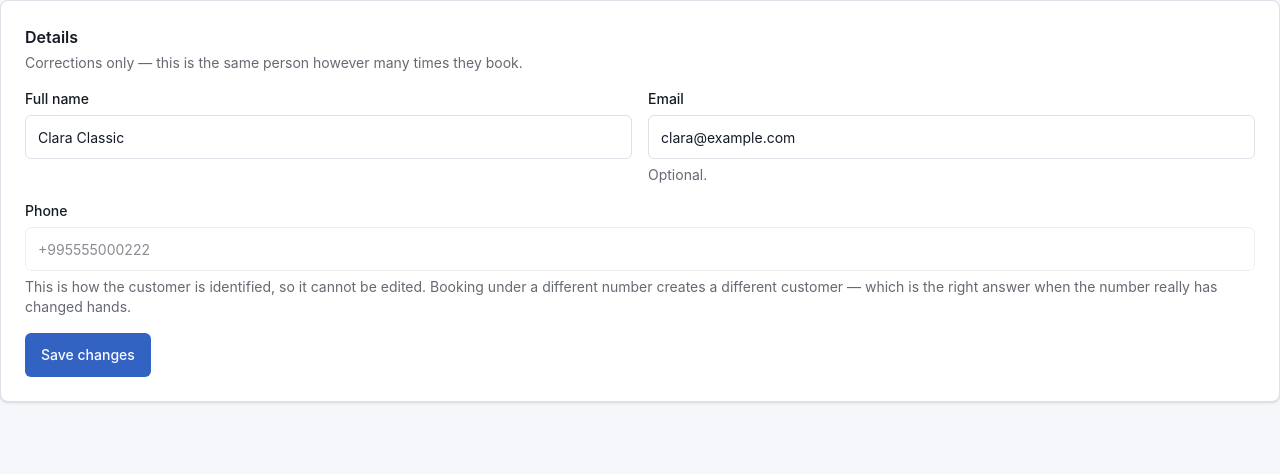
Test: CustomerForm, refused › banners a message for a field this form refuses to draw
The width and height of the screenshot is (1280, 474).
Replace the text in the field labelled "Full name" with "Clara Classical" at (328, 137), box [25, 115, 632, 159]
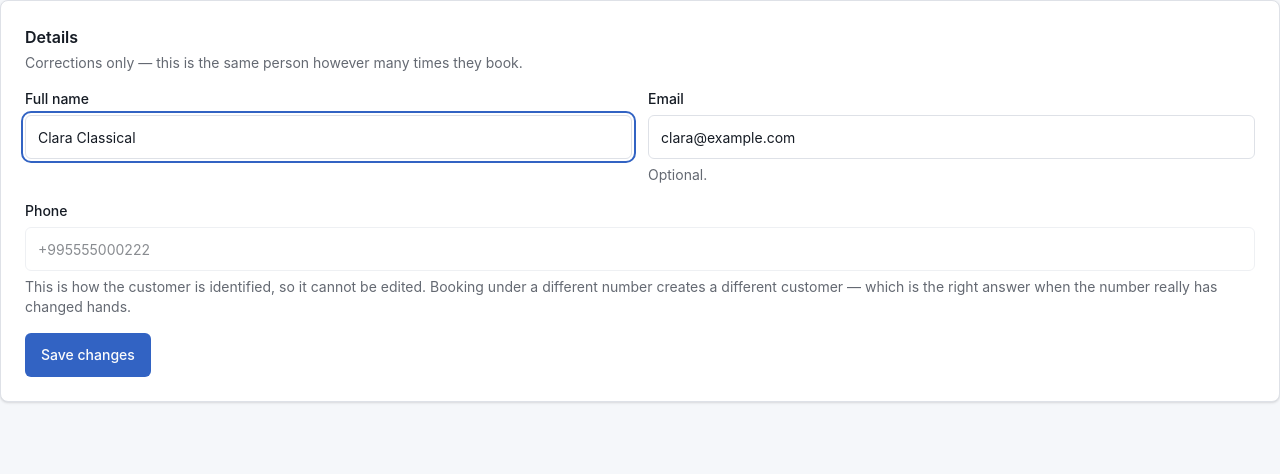
Click the button "Save changes" at (88, 355), box [25, 333, 151, 377]
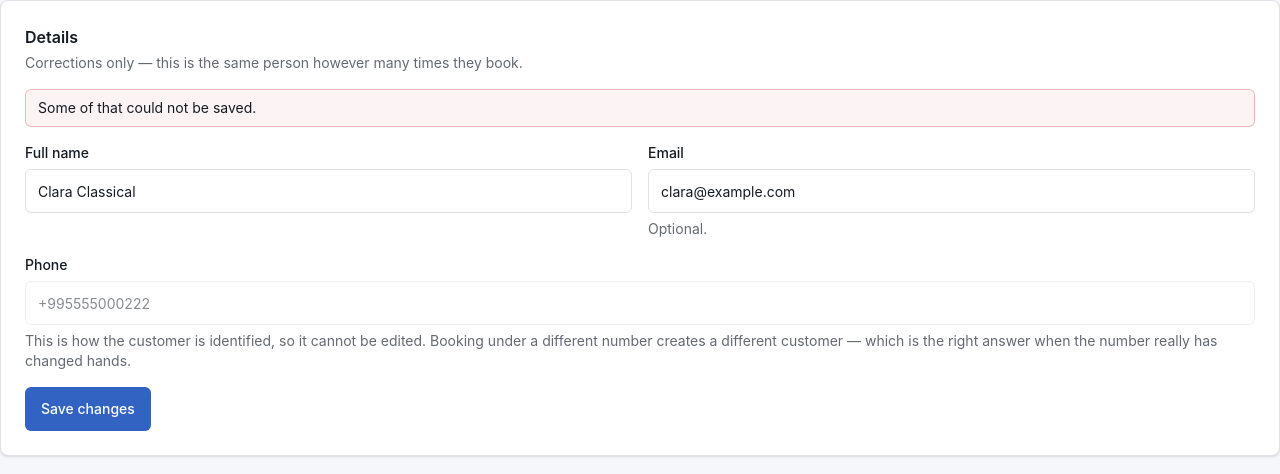
Result: the message reads "Some of that could not be saved." at [38, 99, 256, 116]
